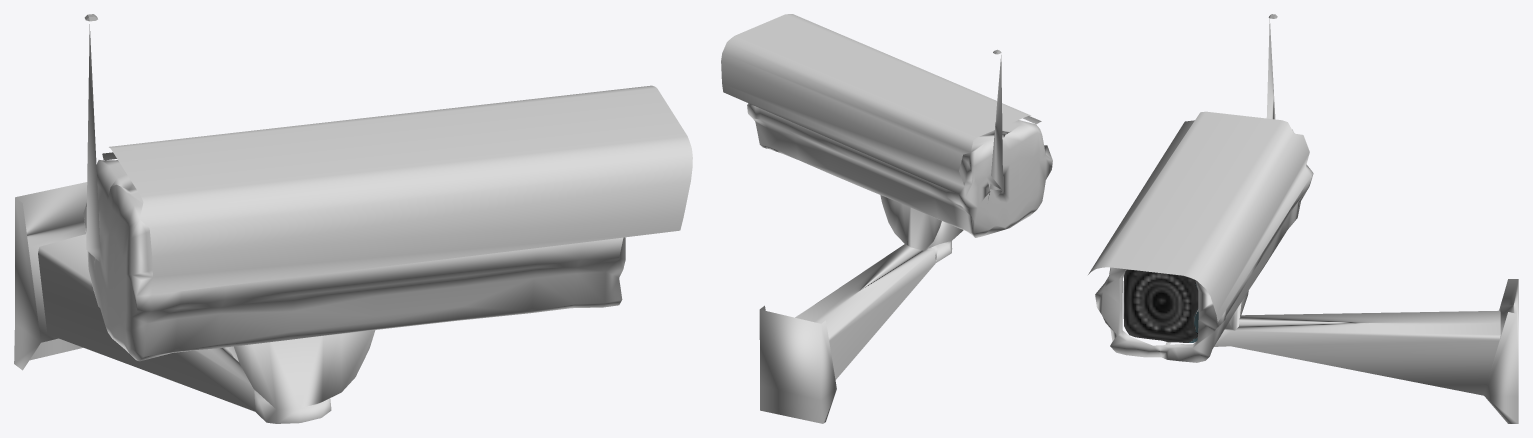
The model's file is camera.glb.
3 views of the same model, side by side, from view 1: azimuth 30°, elevation 25°; view 2: azimuth 150°, elevation 25°; view 3: azimuth 270°, elevation 25° (orthographic). The views are drawn at different scales.
Parts seen in each view (by area): view 1: camera; view 2: camera; view 3: camera.
Part boxes in pixels (bbox=[...]): camera: bbox=[14, 14, 692, 423]; camera: bbox=[721, 14, 1052, 423]; camera: bbox=[1088, 14, 1518, 423].
Bounding box in the file's own units: 0.4193 × 0.3873 × 0.45.
3 materials, 1 textured.
